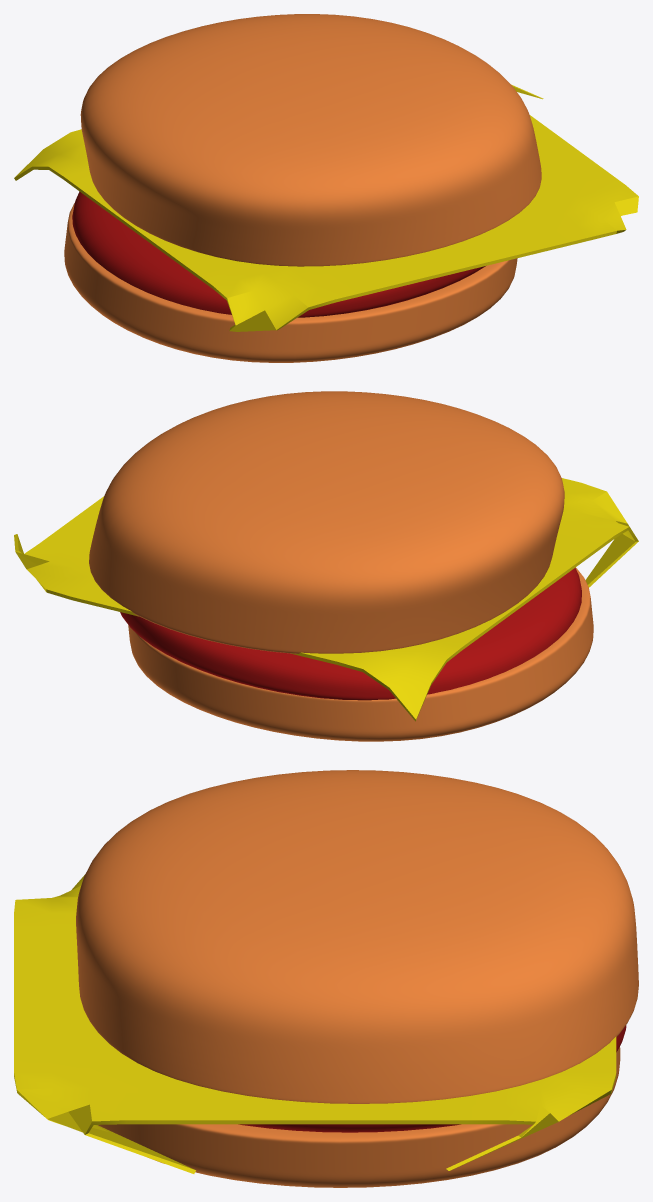
File: ham1.glb
The picture shows the model from 3 angles, top to bottom: view 1: azimuth 30°, elevation 25°; view 2: azimuth 150°, elevation 25°; view 3: azimuth 270°, elevation 25°; orthographic projection. The views are drawn at different scales.
Visible parts, largest first — view 1: Cube.002, Plane, Cube, Cube.001; view 2: Cube.002, Cube, Plane, Cube.001; view 3: Cube.002, Plane, Cube, Cube.001.
Part boxes in pixels (x1,y1,x2,y2): Cube.002: (80, 14, 541, 266); Plane: (14, 84, 638, 331); Cube: (64, 203, 517, 362); Cube.001: (72, 191, 485, 317); Cube.002: (89, 391, 564, 653); Cube: (128, 567, 593, 741); Plane: (14, 478, 638, 721); Cube.001: (120, 568, 581, 700); Cube.002: (76, 770, 638, 1103); Plane: (14, 875, 616, 1173); Cube: (98, 1047, 620, 1187); Cube.001: (238, 1025, 626, 1132).
Bounding box in the file's own units: 12.63 × 4.99 × 11.08.
